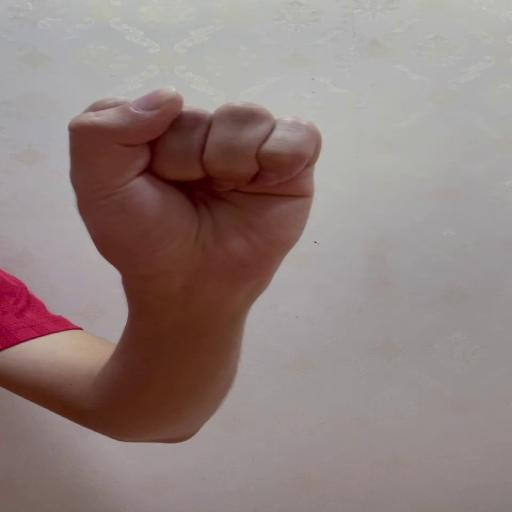fist: (64, 83, 326, 274)
